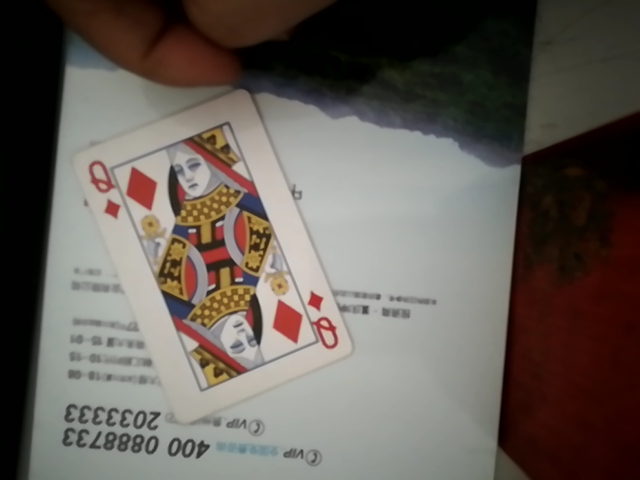fk q: (65, 70, 365, 429)
